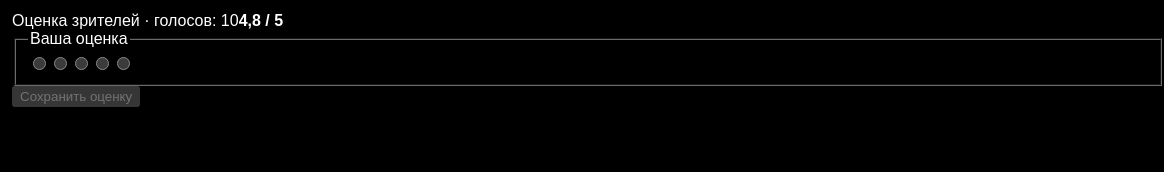
Scenario: отправляет выбранную оценку один раз, выводит новый средний балл и блокирует повтор той же оценки
Expected: the button "Сохранить оценку" is disabled, x1=12 y1=86 x2=140 y2=107
Step 1. Click the radio button named "2 из 5" → (60, 63), box x1=54 y1=57 x2=67 y2=70
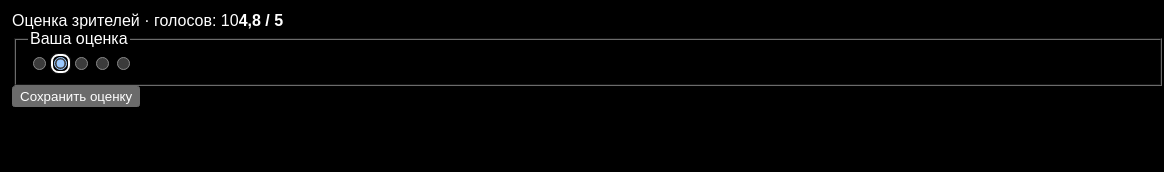
Step 2. Click the button "Сохранить оценку" → (76, 96), box x1=12 y1=86 x2=140 y2=107
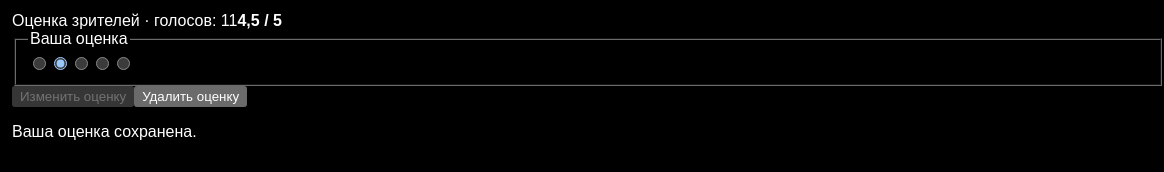
Result: the text "Ваша оценка сохранена." is shown at x1=12 y1=123 x2=197 y2=140
Result: the text "4,5 / 5" is shown at x1=238 y1=12 x2=282 y2=29
Result: the text "Оценка зрителей · голосов: 11" is shown at x1=12 y1=12 x2=238 y2=29
